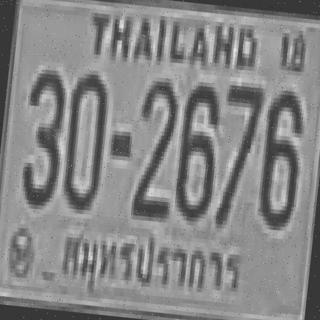N00: (59, 68, 110, 211)
N02: (130, 76, 178, 218)
N03: (17, 64, 67, 206)
N06: (171, 80, 221, 219), (256, 85, 304, 227)
N07: (213, 81, 264, 227)
P57: (55, 223, 244, 304)
